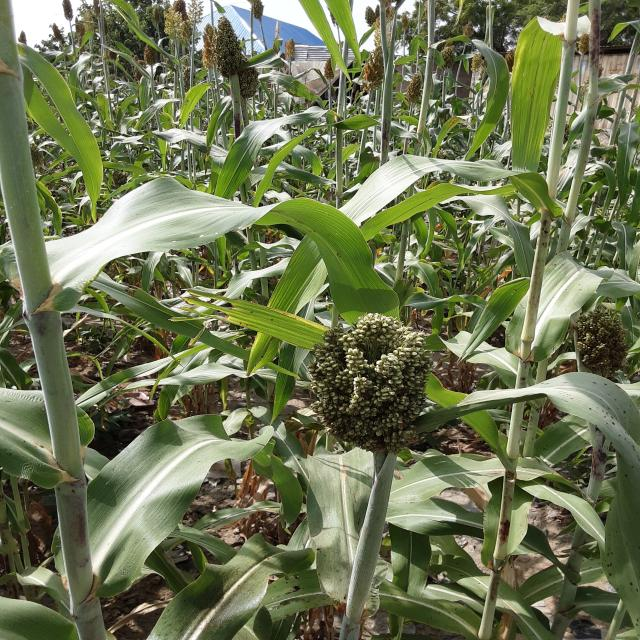UnripeSorghum: (290, 308, 452, 459)
